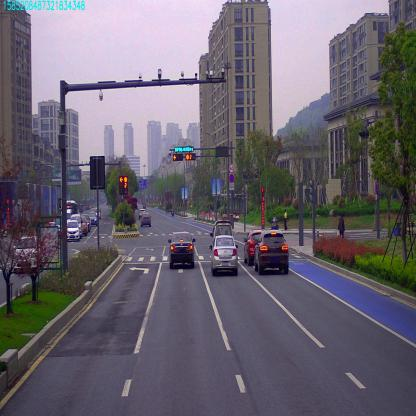traffic-light: (175, 144, 195, 153), (186, 153, 196, 160), (173, 154, 183, 161)
